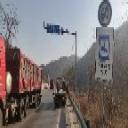speed_limit_60: (97, 0, 112, 26)
